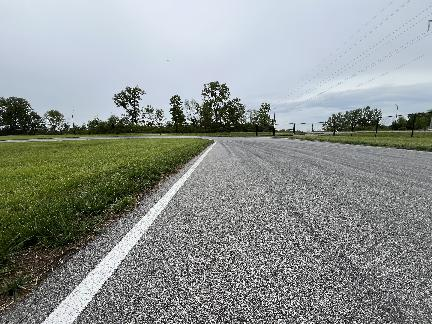Grass: (0, 138, 212, 304), (284, 134, 431, 151)
Lane: (75, 138, 431, 323)
